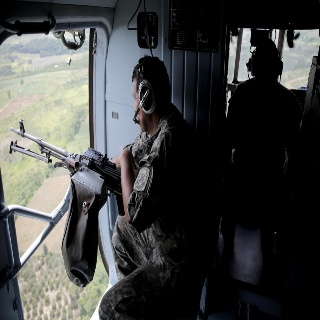rifle: (7, 116, 118, 190)
